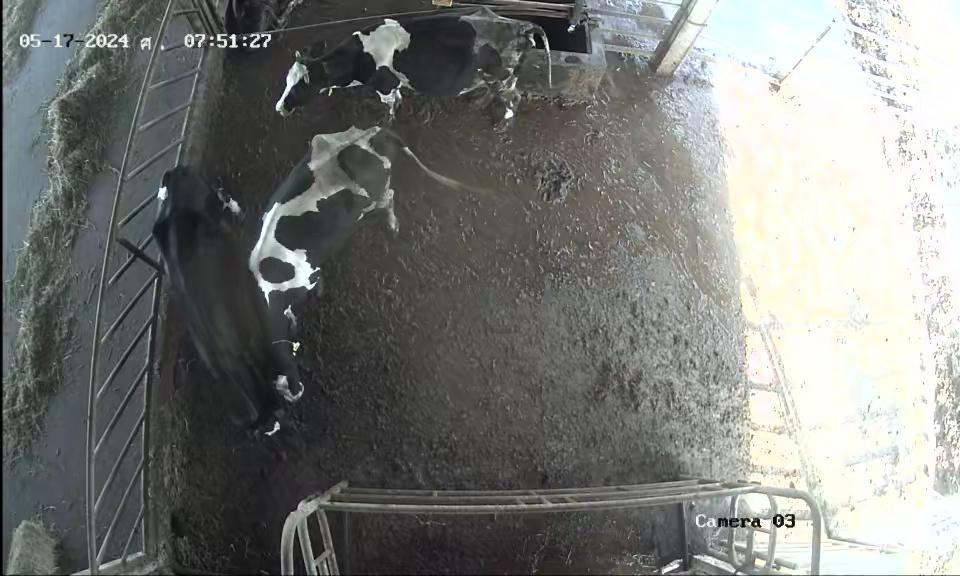stand: (251, 127, 458, 405), (262, 3, 562, 136), (153, 162, 286, 458)
